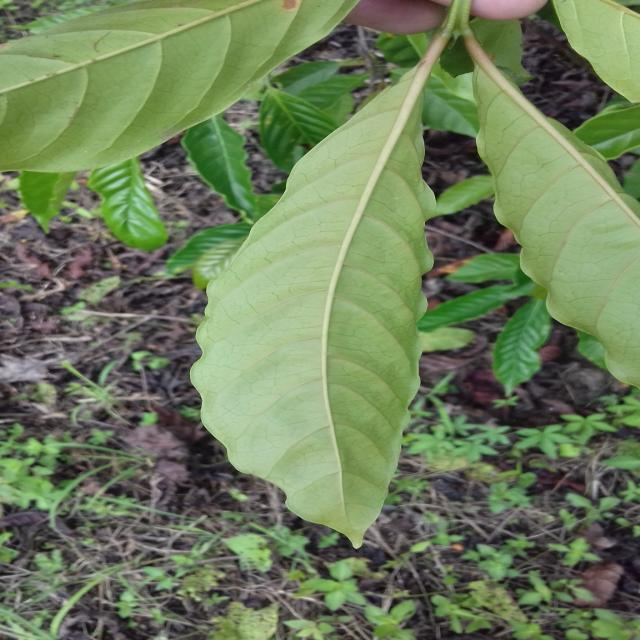Sanas: (189, 55, 442, 548)
